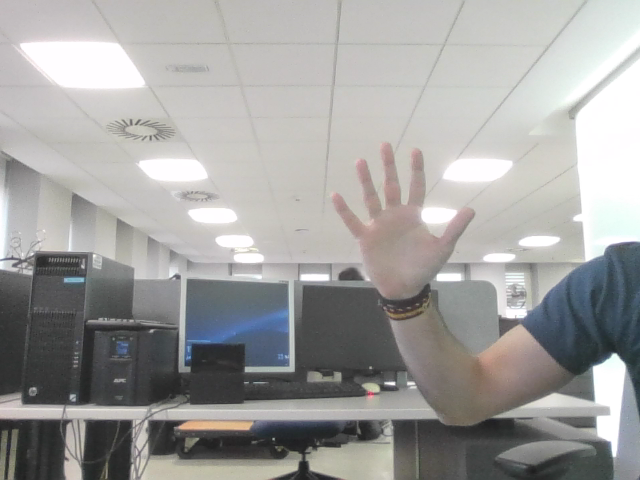Mano Abierta: (343, 155, 462, 265)
